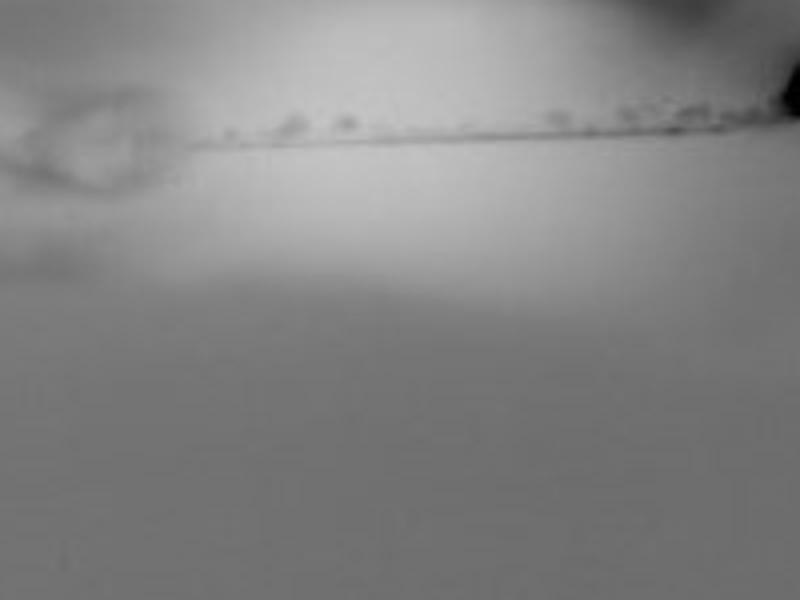defect: (271, 112, 310, 138), (783, 65, 799, 121), (674, 102, 711, 122), (726, 107, 761, 127), (613, 106, 642, 130), (330, 113, 359, 132), (220, 125, 244, 147), (544, 107, 570, 127)
